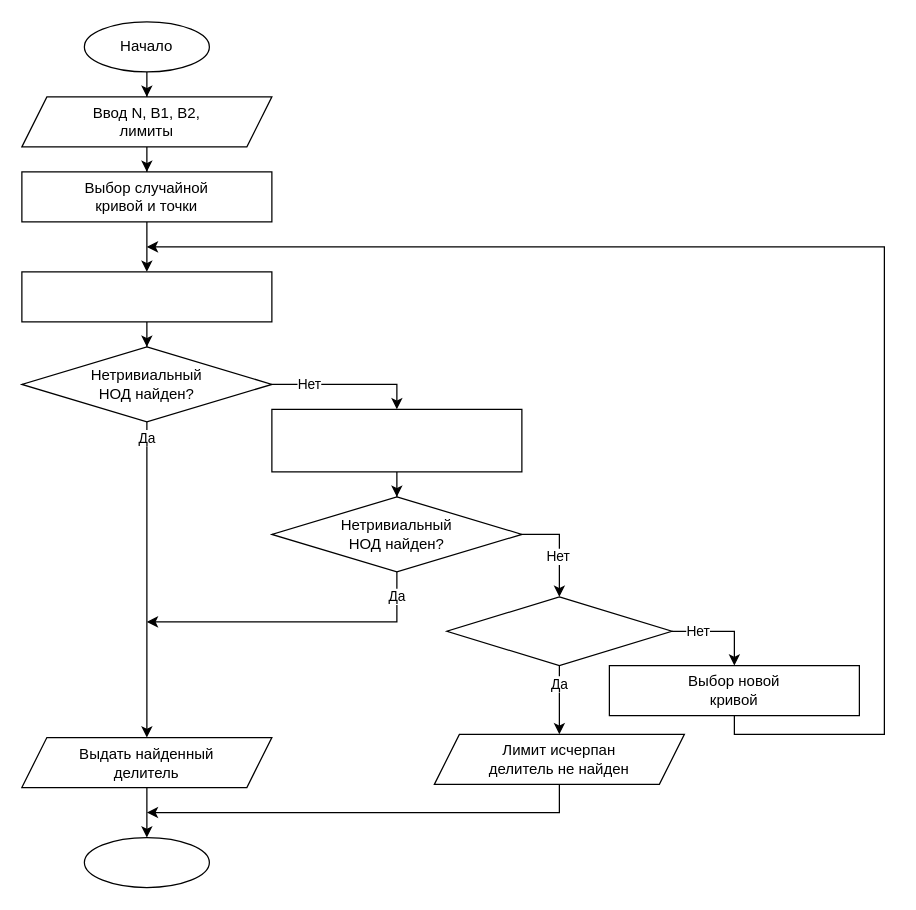
Image size: 916x910. Some labels were removed from this diagram. The centre of each missing label's shape, as x and y in pixels:
Конец: pixel 146 862
Лимит исчерпан?: pixel 559 631
Стадия 1 (граница B1): pixel 146 296
Стадия 2 (диапазон B1..B2): pixel 396 440
